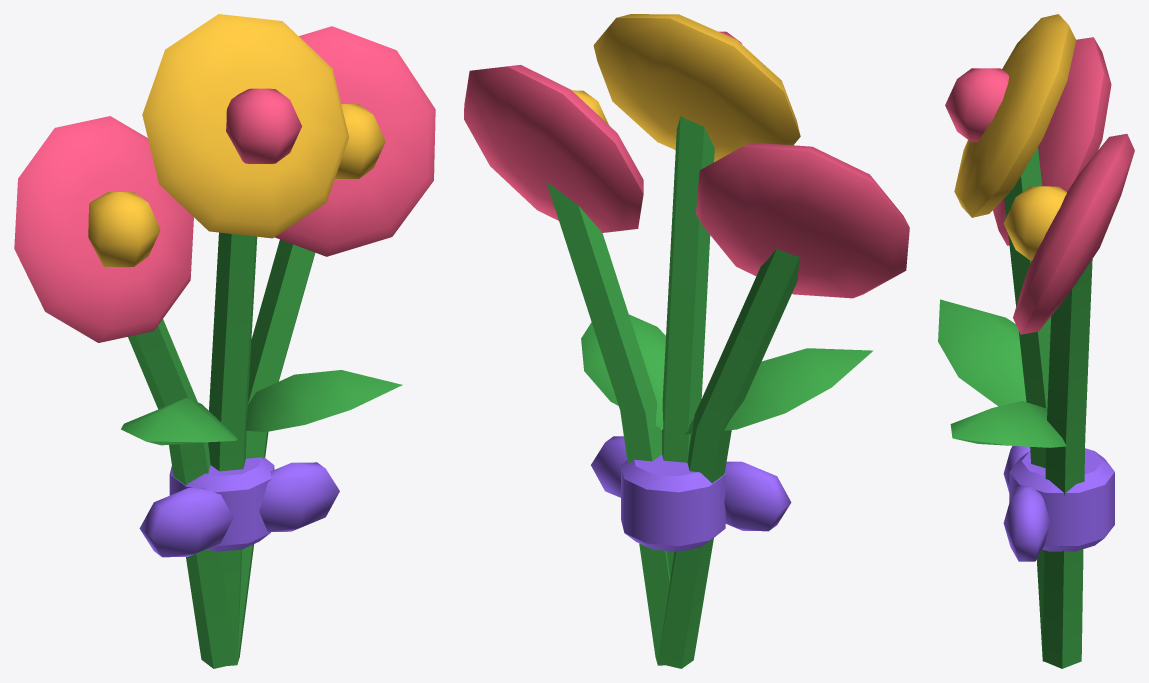
File: flower-bloom.glb
3 views of the same model, side by side, from view 1: azimuth 30°, elevation 25°; view 2: azimuth 150°, elevation 25°; view 3: azimuth 270°, elevation 25° (orthographic).
Parts seen in each view (by area): view 1: bloom_3, bloom_4, bloom_2, bloom_1; view 2: bloom_2, bloom_3, bloom_4, bloom_1; view 3: bloom_2, bloom_3, bloom_4, bloom_1.
Boxes of the visible parts, x1,y1,x2,y2 form: bloom_3: [14, 26, 435, 342]; bloom_4: [88, 14, 385, 267]; bloom_2: [121, 232, 402, 668]; bloom_1: [139, 457, 339, 557]; bloom_2: [546, 116, 873, 668]; bloom_3: [464, 31, 909, 298]; bloom_4: [572, 14, 800, 162]; bloom_1: [591, 436, 791, 551]; bloom_2: [938, 147, 1092, 668]; bloom_3: [945, 37, 1134, 334]; bloom_4: [954, 14, 1076, 260]; bloom_1: [1003, 446, 1114, 561].
Bounding box in the file's own units: 0.2945 × 0.4188 × 0.1176.
